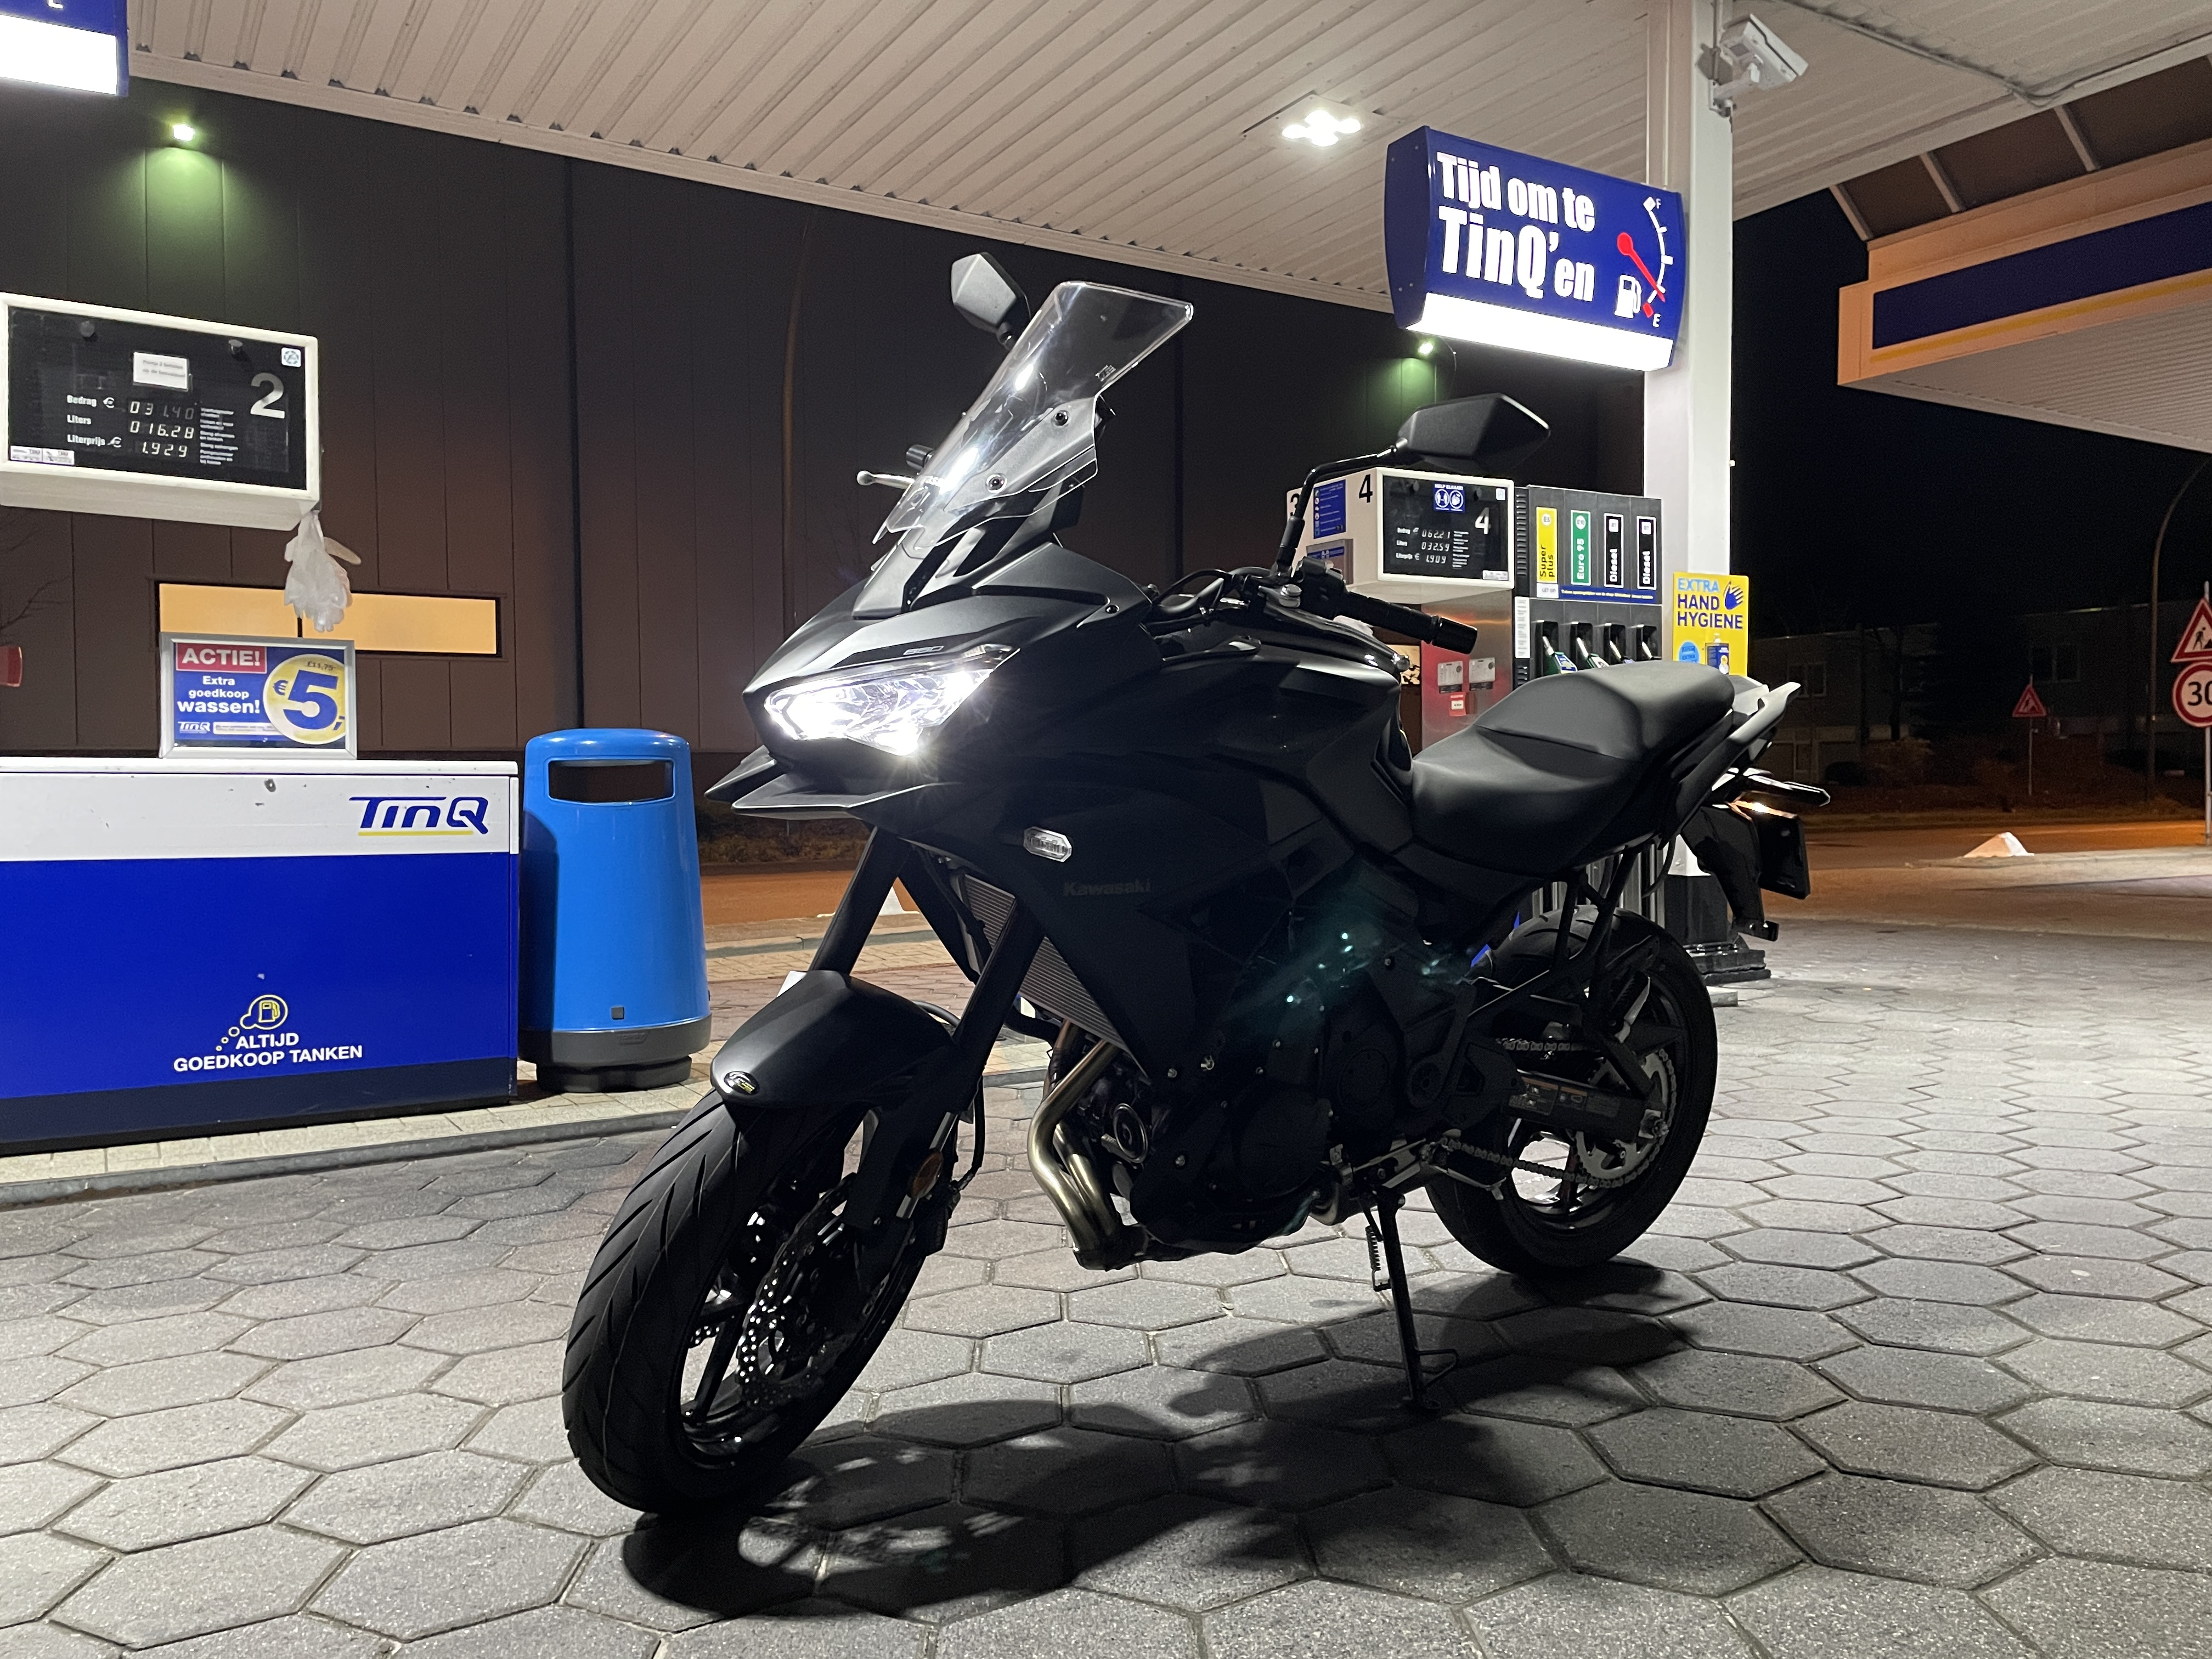motorcycle: (559, 296, 1813, 1513)
